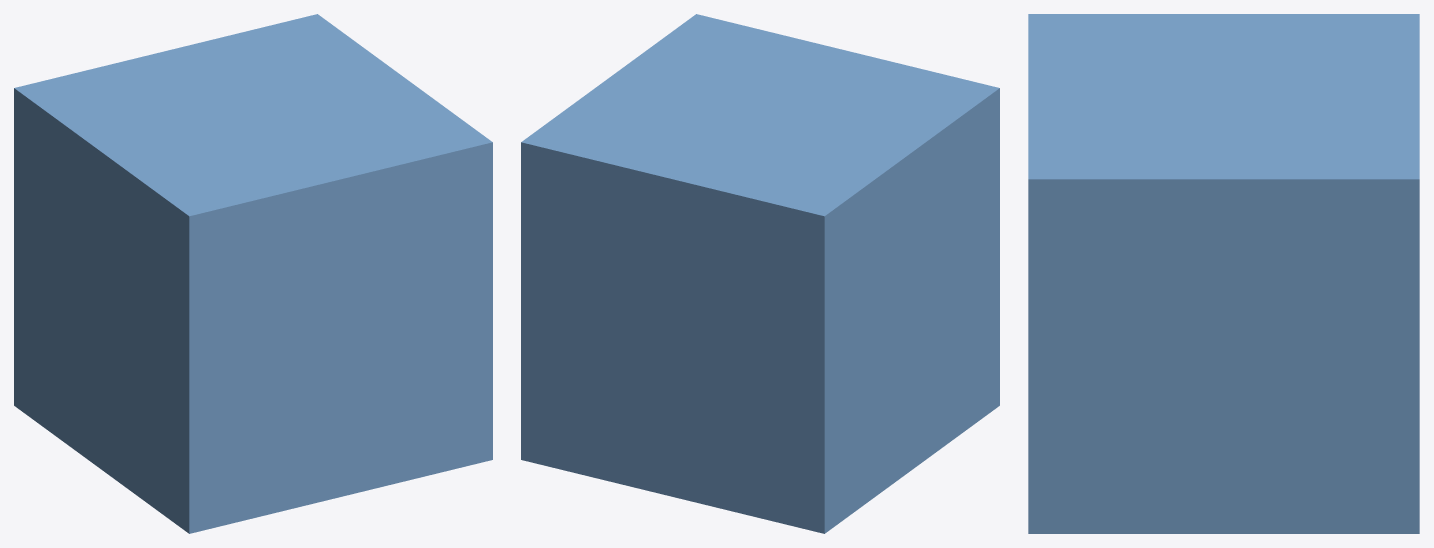
Rendered from full_block.glb.
The picture shows the model from 3 angles, left to right: view 1: azimuth 30°, elevation 25°; view 2: azimuth 150°, elevation 25°; view 3: azimuth 270°, elevation 25°; orthographic projection. The views are drawn at different scales.
Parts seen in each view (by area): view 1: full_block; view 2: full_block; view 3: full_block.
Boxes of the visible parts, x1=… form: full_block: x1=14, y1=14, x2=492, y2=533; full_block: x1=521, y1=14, x2=999, y2=533; full_block: x1=1028, y1=14, x2=1419, y2=533.
Size of the model in its own units: 1.6 by 1.6 by 1.6.
